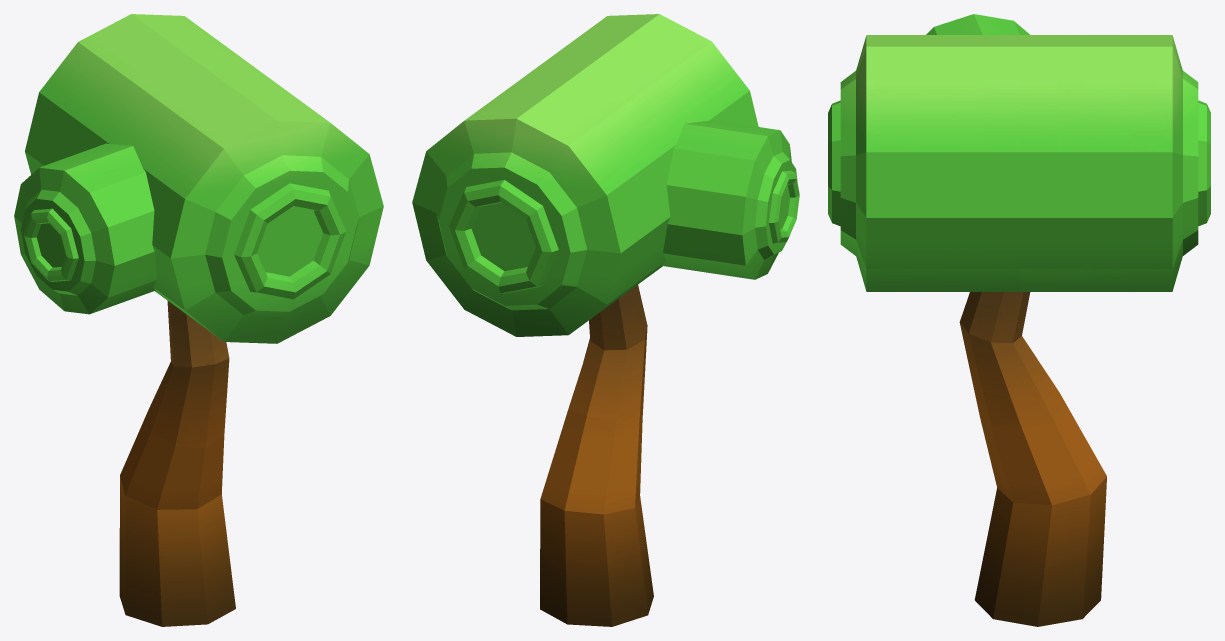
The model's file is quaternius-textured-fantasy-nature-smalltree.glb.
3 renders of one model, left to right at view 1: azimuth 30°, elevation 25°; view 2: azimuth 150°, elevation 25°; view 3: azimuth 270°, elevation 25°, orthographic. The views are drawn at different scales.
Visible parts, largest first — view 1: Tree; view 2: Tree; view 3: Tree.
Boxes of the visible parts, box(x1,y1,x2,y2) form: Tree: box(14, 14, 383, 626); Tree: box(412, 14, 799, 626); Tree: box(828, 14, 1210, 626).
Size of the model in its own units: 1.97 by 3.44 by 2.12.
1 material, 1 textured.
